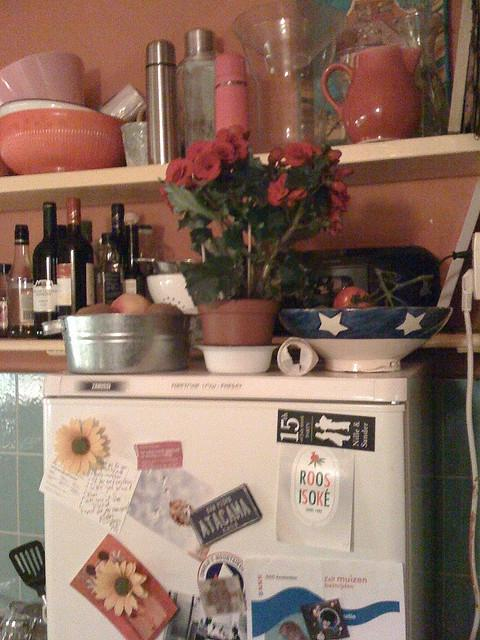tomato: (334, 286, 373, 308)
